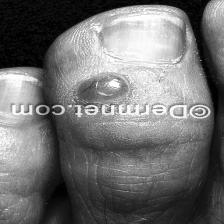Toxin: (69, 64, 131, 100)
